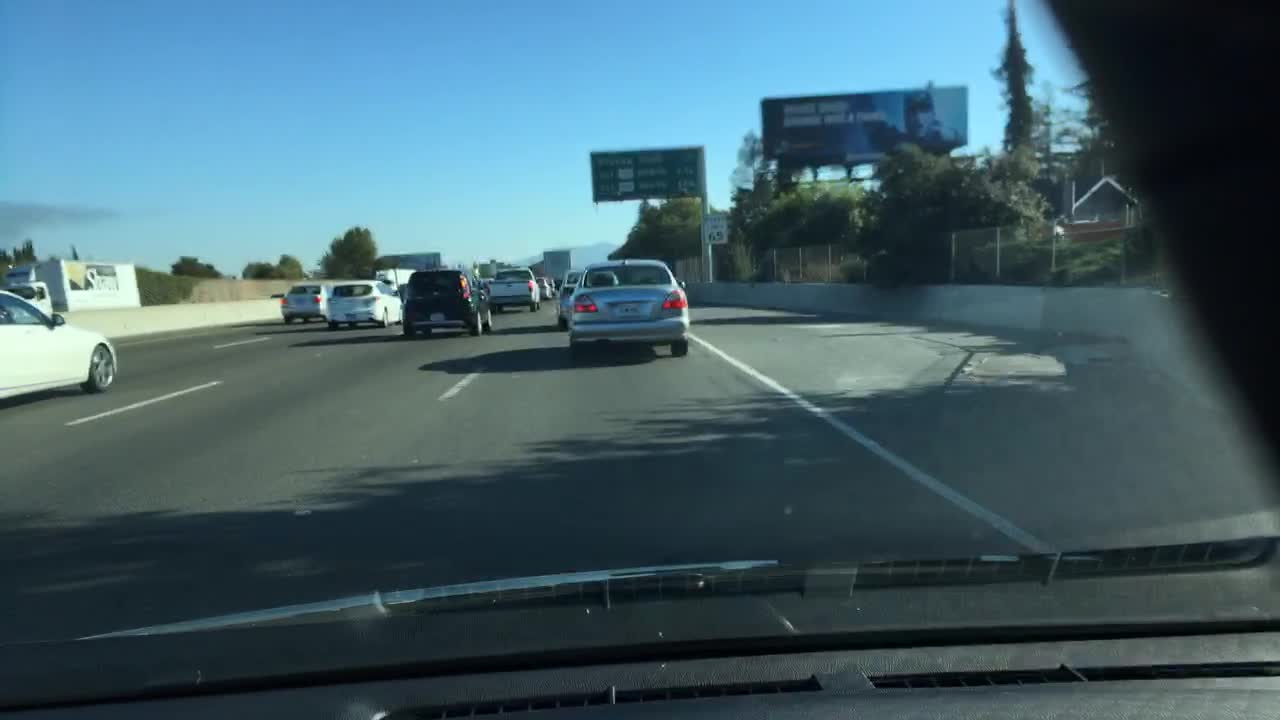car: (0, 289, 114, 402), (567, 259, 686, 357), (5, 261, 140, 325), (402, 267, 492, 337), (326, 281, 404, 327), (282, 280, 336, 323), (556, 268, 583, 328), (534, 275, 556, 300), (470, 278, 490, 299), (545, 273, 556, 301)
traffic sign: (588, 147, 702, 202), (703, 213, 729, 246), (398, 253, 439, 269), (543, 250, 570, 273)
truck: (482, 267, 542, 312), (375, 268, 417, 299)
